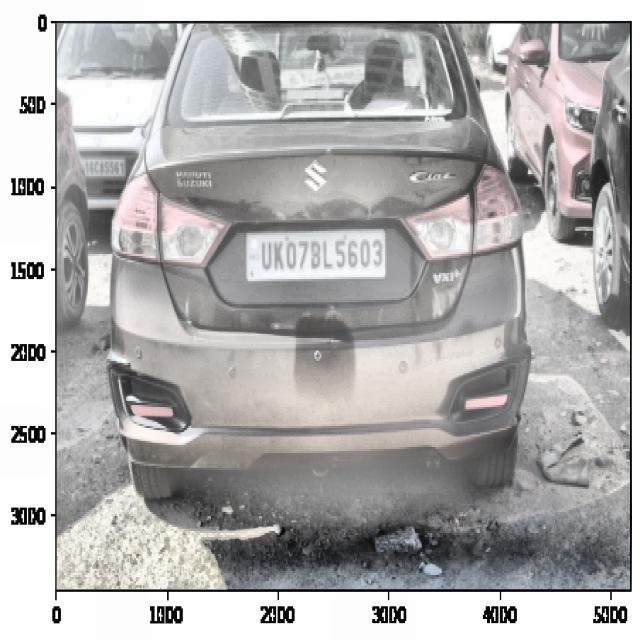license_plate: (254, 231, 387, 279)
